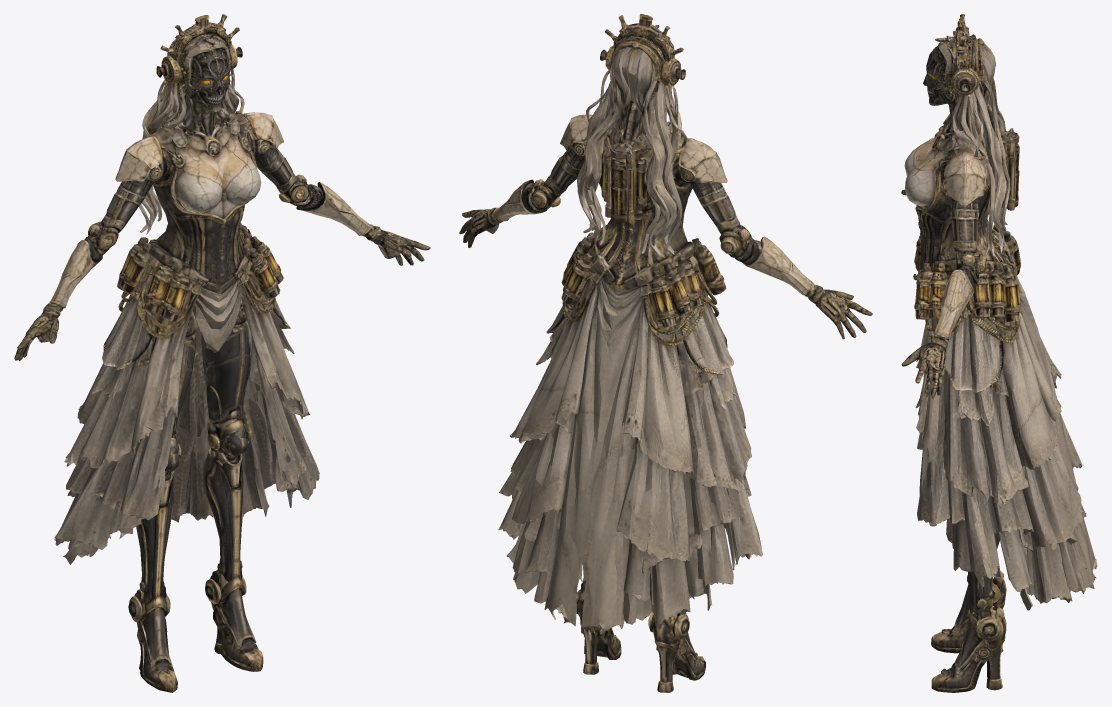
3 views of the same model, side by side, from view 1: azimuth 30°, elevation 25°; view 2: azimuth 150°, elevation 25°; view 3: azimuth 270°, elevation 25° (orthographic).
Visible parts, largest first — view 1: body; view 2: body; view 3: body.
Boxes of the visible parts, x1,y1,x2,y2 form: body: [14, 14, 430, 692]; body: [459, 14, 872, 692]; body: [901, 14, 1097, 692].
Bounding box in the file's own units: 1.25 × 1.9 × 0.5205.
Materials: 1 (1 with a texture image).
